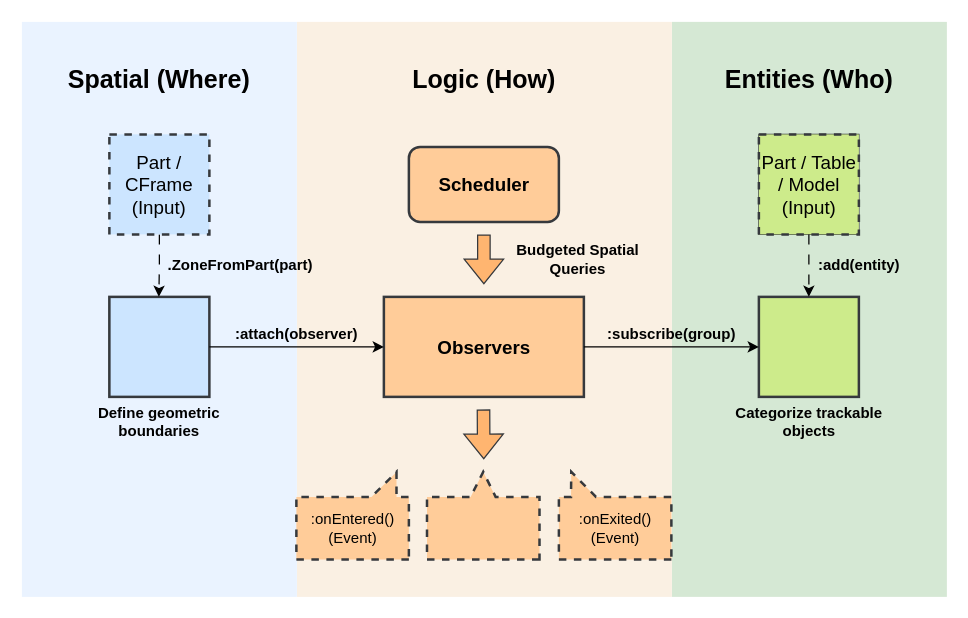
This 968x618 diagram has some shape labels left out. Each missing label, with the centre of its shape:
":observe() (Lifecycle)" belongs at (x=482, y=515).
"Groups" belongs at (x=808, y=346).
"Zones" belongs at (x=159, y=346).
